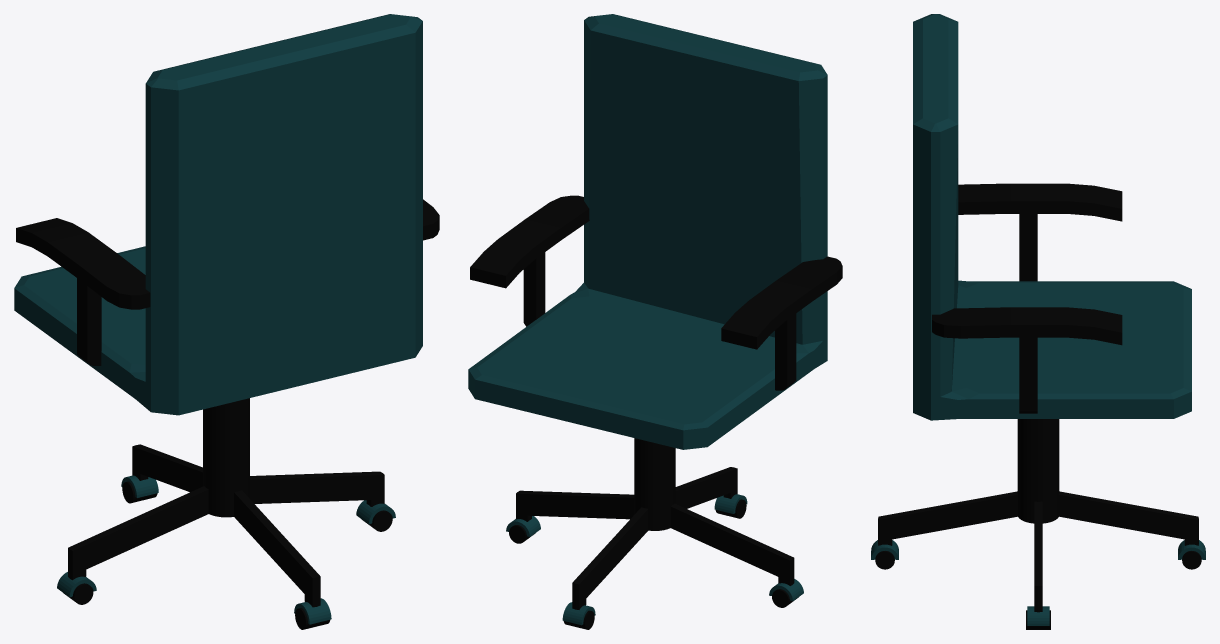
Rendered from Chair.fbx.
3 views of the same model, side by side, from view 1: azimuth 30°, elevation 25°; view 2: azimuth 150°, elevation 25°; view 3: azimuth 270°, elevation 25° (orthographic). The views are drawn at different scales.
Parts seen in each view (by area): view 1: Chair, Cylinder.011, Cube.181; view 2: Chair, Cylinder.011, Cube.181, Cube.182; view 3: Chair, Cylinder.011, Cube.182, Cube.181.
Boxes of the visible parts, x1,y1,x2,y2 form: Chair: (14, 14, 422, 415); Cylinder.011: (68, 398, 384, 607); Cube.181: (16, 218, 150, 365); Chair: (468, 14, 827, 449); Cylinder.011: (516, 438, 794, 609); Cube.181: (721, 256, 842, 390); Cube.182: (470, 195, 589, 326); Chair: (913, 14, 1191, 420); Cylinder.011: (878, 419, 1198, 612); Cube.182: (932, 307, 1122, 413); Cube.181: (958, 183, 1122, 281).
Bounding box in the file's own units: 120 × 196 × 120.
